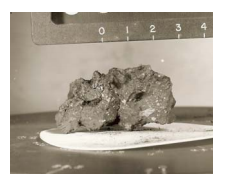Breccia: (59, 47, 182, 135)
